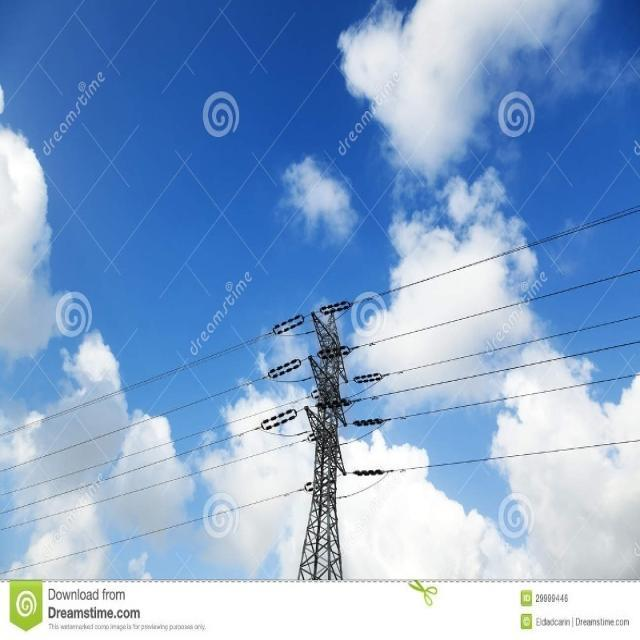non-critical vegetation: (270, 296, 374, 581)
